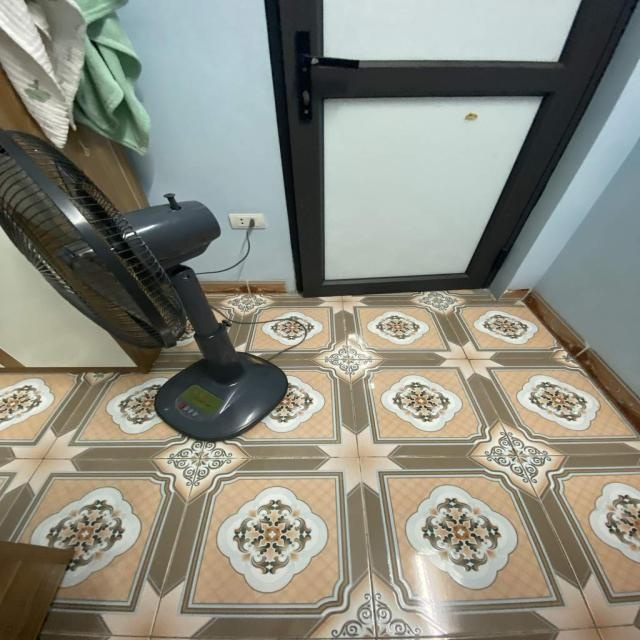outlet: (228, 213, 266, 229)
